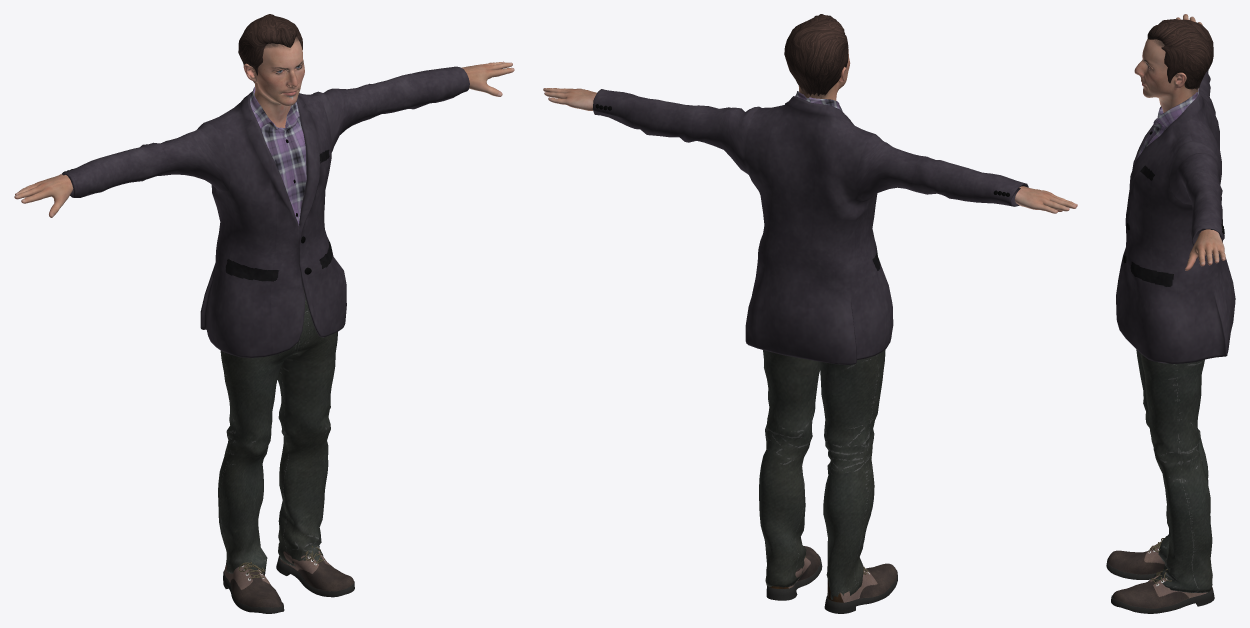
File: Enemy_05.obj
The picture shows the model from 3 angles, left to right: view 1: azimuth 30°, elevation 25°; view 2: azimuth 150°, elevation 25°; view 3: azimuth 270°, elevation 25°; orthographic projection. The views are drawn at different scales.
Parts seen in each view (by area): view 1: Tops, Bottoms, Body, Shoes, Hair; view 2: Tops, Bottoms, Hair, Shoes, Body; view 3: Tops, Bottoms, Shoes, Body, Hair.
Boxes of the visible parts, x1=… form: Tops: x1=62, y1=66, x2=469, y2=357; Bottoms: x1=218, y1=288, x2=337, y2=575; Body: x1=14, y1=36, x2=514, y2=217; Shoes: x1=223, y1=546, x2=354, y2=613; Hair: x1=238, y1=14, x2=302, y2=82; Tops: x1=592, y1=89, x2=1028, y2=364; Bottoms: x1=759, y1=349, x2=885, y2=599; Hair: x1=784, y1=14, x2=848, y2=95; Shoes: x1=766, y1=546, x2=897, y2=613; Body: x1=543, y1=49, x2=1077, y2=213; Tops: x1=1116, y1=70, x2=1235, y2=364; Bottoms: x1=1136, y1=349, x2=1212, y2=592; Shoes: x1=1106, y1=536, x2=1214, y2=613; Body: x1=1134, y1=14, x2=1225, y2=270; Hair: x1=1147, y1=19, x2=1213, y2=89.
Bounding box in the file's own units: 174 × 184 × 37.94.
